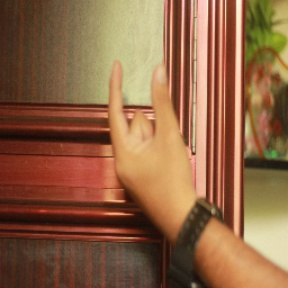U: (98, 50, 187, 193)
